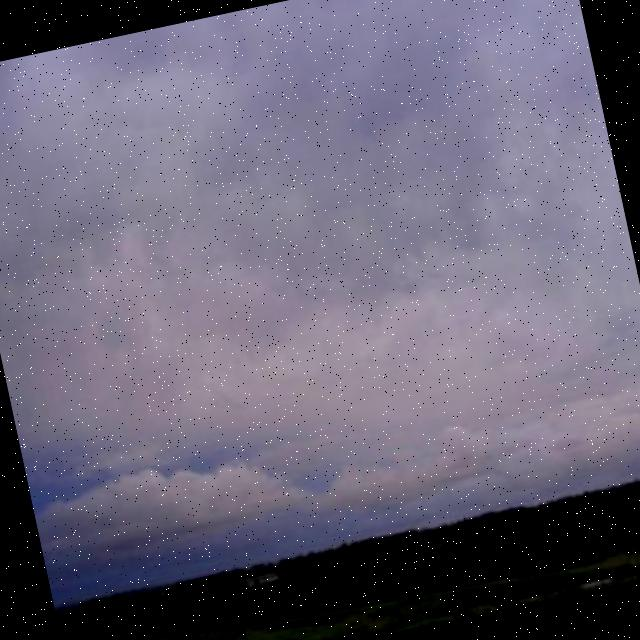As: (1, 23, 640, 585)
